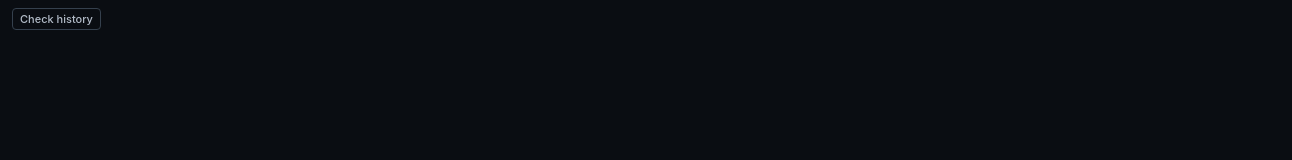
Scenario: HistoryPrefetch › downloads with progress, and offers to resume once stopped
The image size is (1292, 160).
Later steps or results of the test are not shown.
Click the button "Check history" at (56,19), box [12,8,101,30]
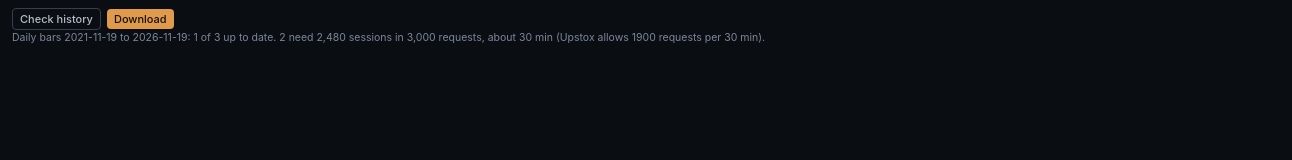
Click the button "Download" at (140,19), box [107,9,174,29]
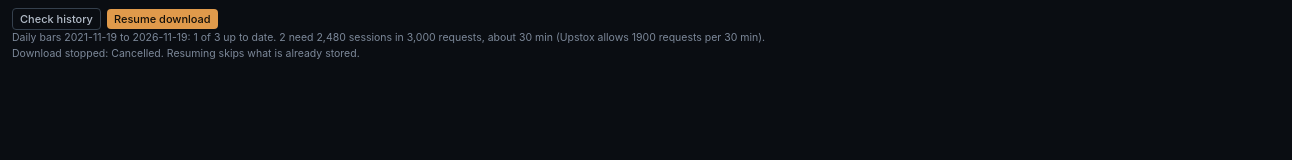
expect the text "Resuming skips what is already stored" is shown: met, box [161,47,360,60]
Click the button "Resume download" at (162,19), box [107,9,218,29]
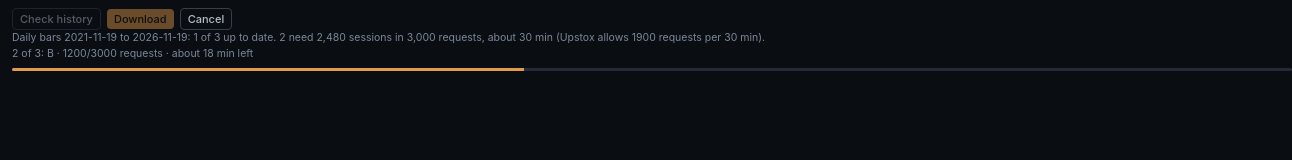
expect the text "2 of 3: B · 1200/3000 requests · about 18 min left" is shown: met, box [12,47,253,60]
